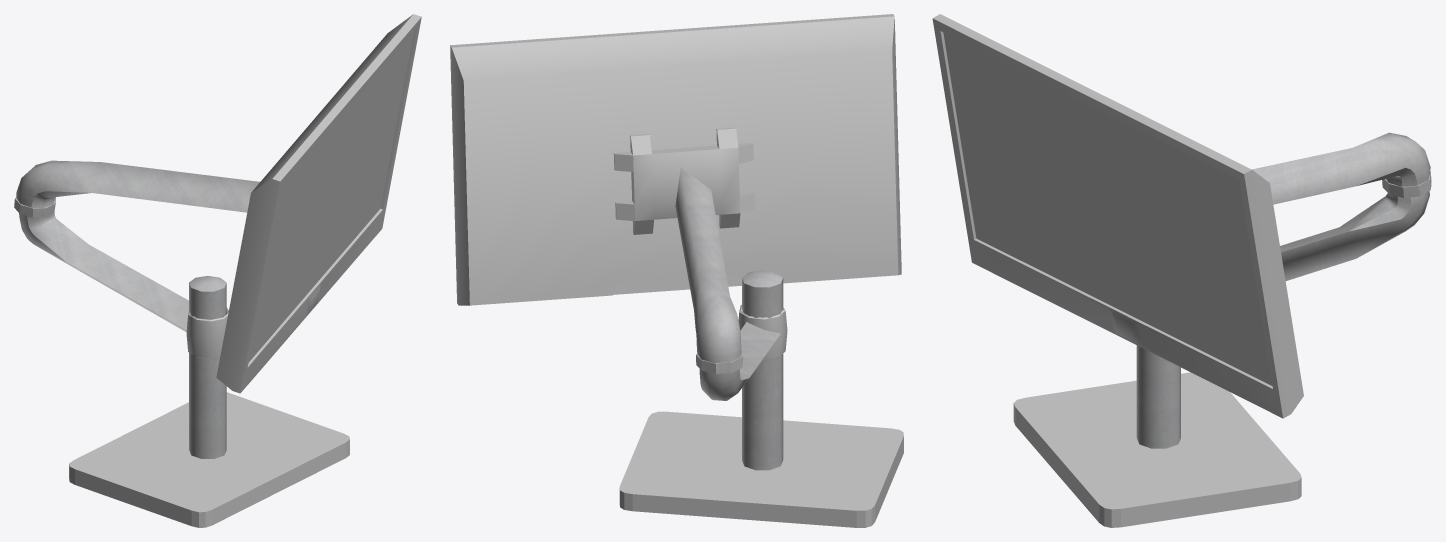
3 renders of one model, left to right at view 1: azimuth 30°, elevation 25°; view 2: azimuth 150°, elevation 25°; view 3: azimuth 270°, elevation 25°, orthographic. The views are drawn at different scales.
Visible parts, largest first — view 1: pc_1_r; view 2: pc_1_r; view 3: pc_1_r.
Boxes of the visible parts, x1,y1,x2,y2 form: pc_1_r: (14, 14, 421, 527); pc_1_r: (450, 14, 903, 527); pc_1_r: (932, 14, 1431, 527).
Bounding box in the file's own units: 0.5212 × 0.4915 × 0.5176.
